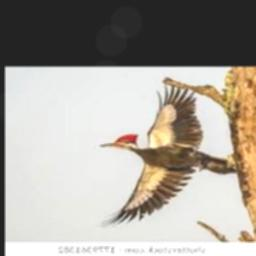Woodpecker: (96, 84, 239, 229)
